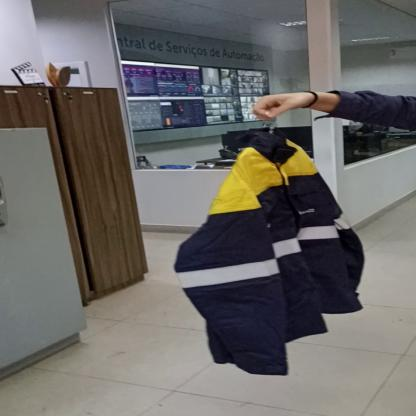C_eletrica: (172, 134, 378, 376)
